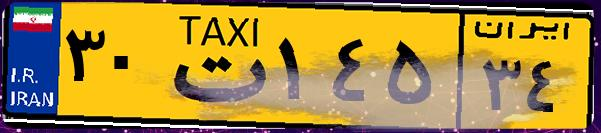0: (110, 28, 158, 98)
1: (270, 28, 330, 110)
3: (57, 26, 110, 100), (475, 38, 525, 113)
4: (330, 28, 385, 110), (525, 38, 570, 115)
5: (385, 28, 445, 110)
ت: (158, 12, 270, 120)
